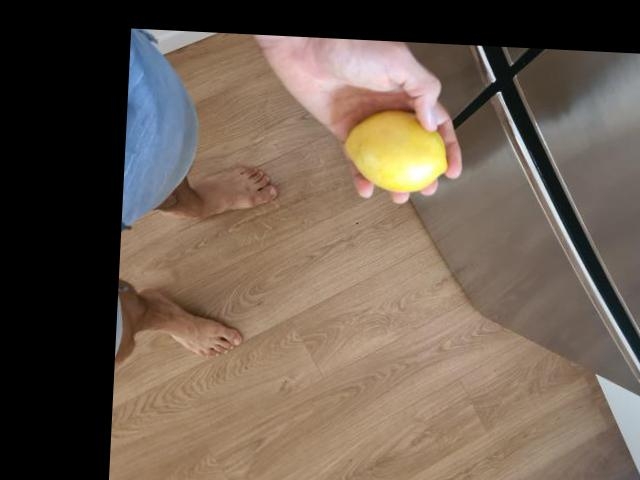lemon: (343, 114, 450, 194)
